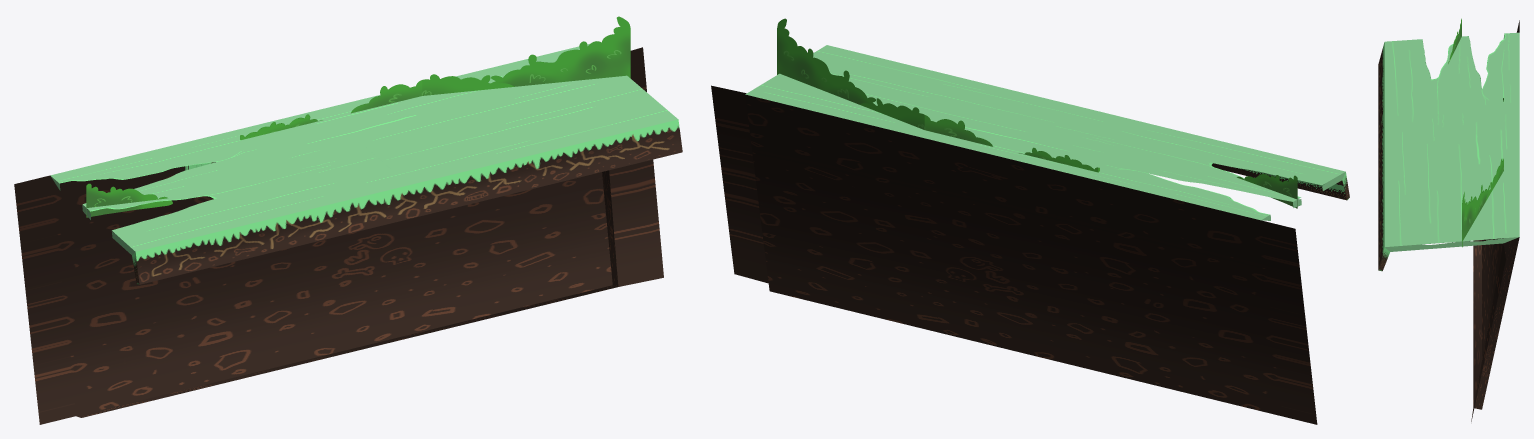
The model's file is Piso.fbx.
3 renders of one model, left to right at view 1: azimuth 30°, elevation 25°; view 2: azimuth 150°, elevation 25°; view 3: azimuth 270°, elevation 25°, orthographic. The views are drawn at different scales.
Parts seen in each view (by area): view 1: Piso; view 2: Piso; view 3: Piso.
Boxes of the visible parts, x1,y1,x2,y2 form: Piso: [14, 16, 682, 424]; Piso: [711, 18, 1349, 424]; Piso: [1378, 18, 1519, 421].
Size of the model in its own units: 2330 by 1003 by 593.
